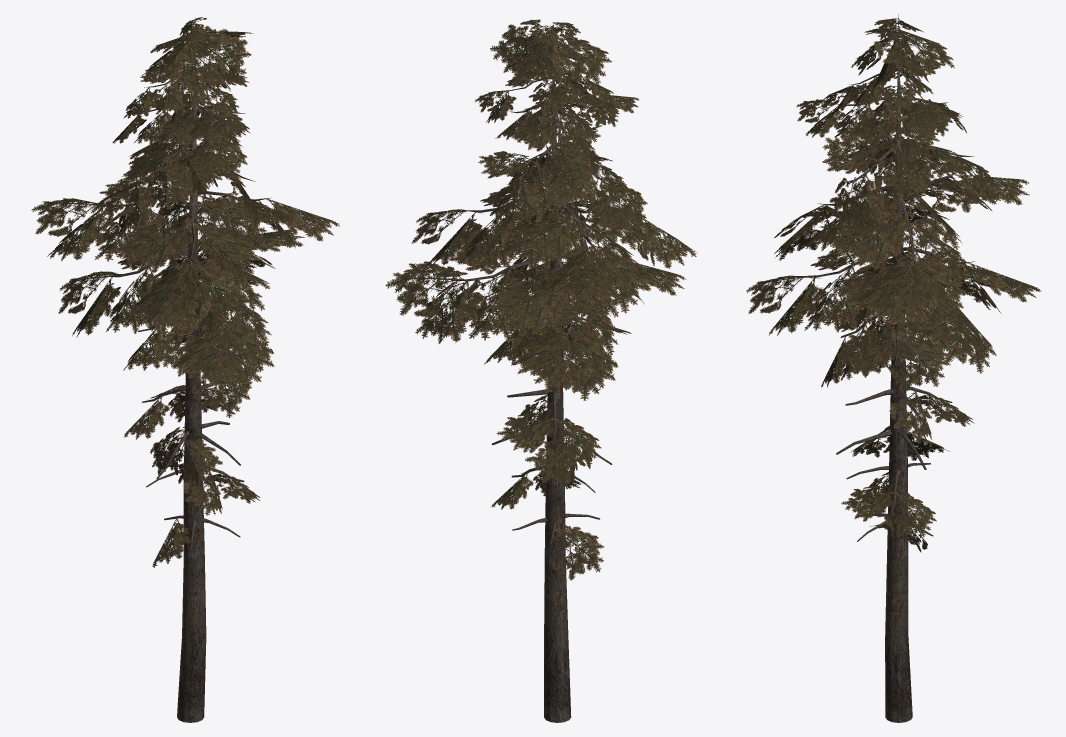
Rendered from trees_sosna_1_sux_01_1.fbx.
3 views of the same model, side by side, from view 1: azimuth 30°, elevation 25°; view 2: azimuth 150°, elevation 25°; view 3: azimuth 270°, elevation 25° (orthographic).
Parts seen in each view (by area): view 1: trees_sosna_1_sux_01_1; view 2: trees_sosna_1_sux_01_1; view 3: trees_sosna_1_sux_01_1.
Part boxes in pixels (left/top/right/bottom): trees_sosna_1_sux_01_1: left=31, top=17, right=339, bottom=722; trees_sosna_1_sux_01_1: left=385, top=19, right=696, bottom=722; trees_sosna_1_sux_01_1: left=746, top=14, right=1041, bottom=722.
Size of the model in its own units: 1179 by 2872 by 1189.
